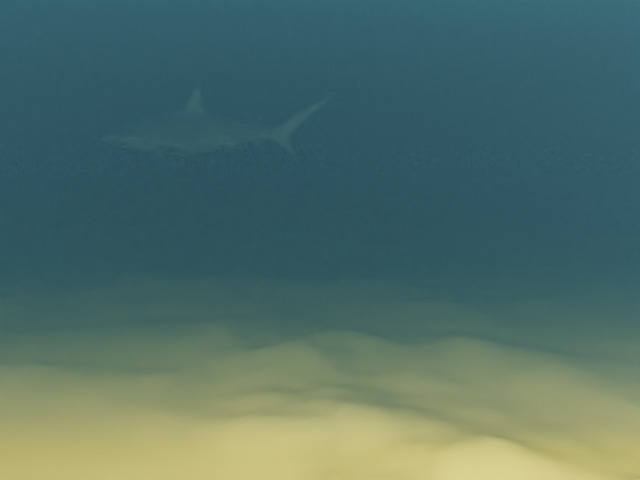Carribean Shark.001: (101, 84, 339, 162)
